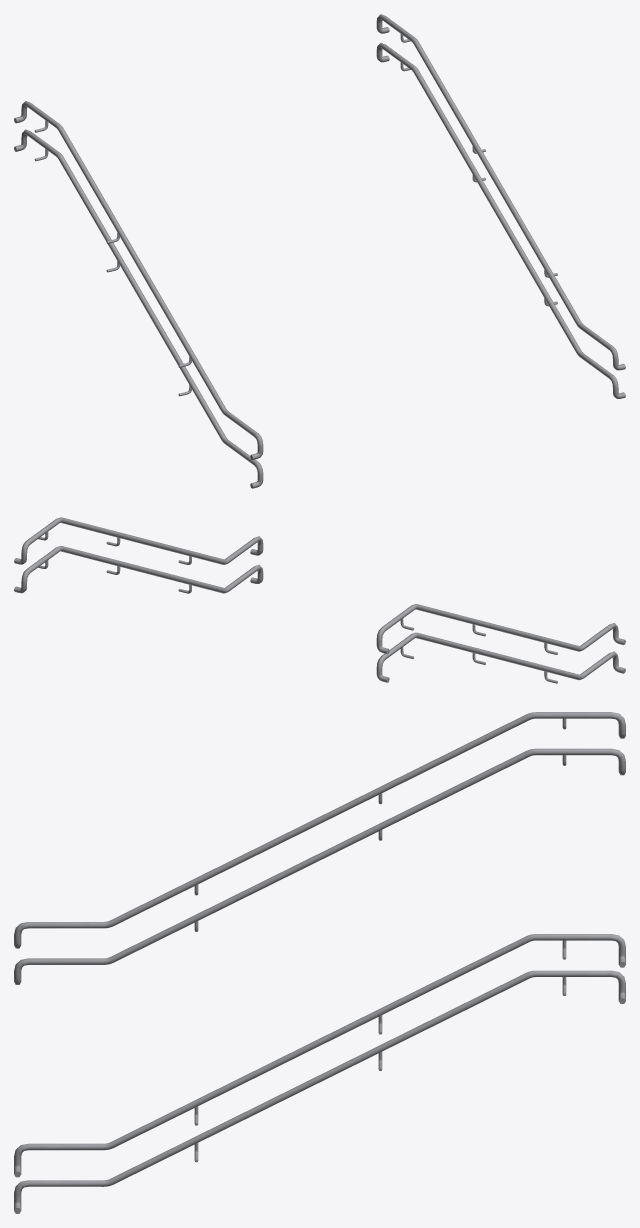
The model's file is gteki_ik_stair_n7_r164_t300_w2554_rails_wall.glb.
The picture shows the model from 3 angles, top to bottom: view 1: azimuth 30°, elevation 25°; view 2: azimuth 150°, elevation 25°; view 3: azimuth 270°, elevation 25°; orthographic projection. The views are drawn at different scales.
Parts seen in each view (by area): view 1: VIS_handrails; view 2: VIS_handrails, VIS_rail_supports; view 3: VIS_handrails, VIS_rail_supports.
Part boxes in pixels (<box>): VIS_handrails: <box>14,14,625,488</box>; VIS_handrails: <box>14,517,625,682</box>; VIS_rail_supports: <box>38,532,557,683</box>; VIS_handrails: <box>14,712,625,1213</box>; VIS_rail_supports: <box>194,718,566,1162</box>.
Bounding box in the file's own units: 2.77 × 1.5 × 3.04.
1 material, 1 textured.
